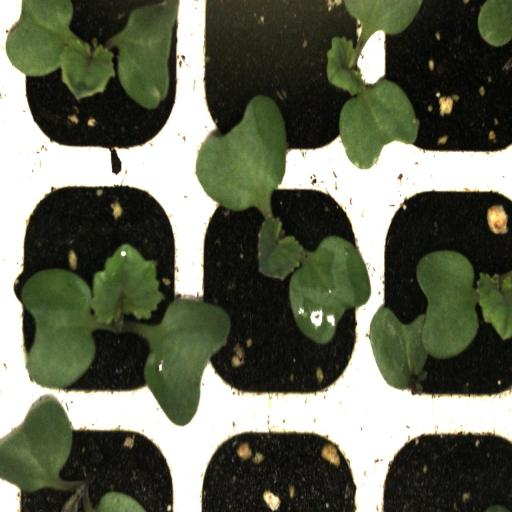Folha: (324, 16, 419, 170), (0, 400, 73, 493), (342, 0, 423, 39)
Germinacao: (187, 169, 371, 413), (6, 169, 188, 410), (371, 172, 512, 414), (189, 1, 379, 179), (7, 0, 189, 174)
